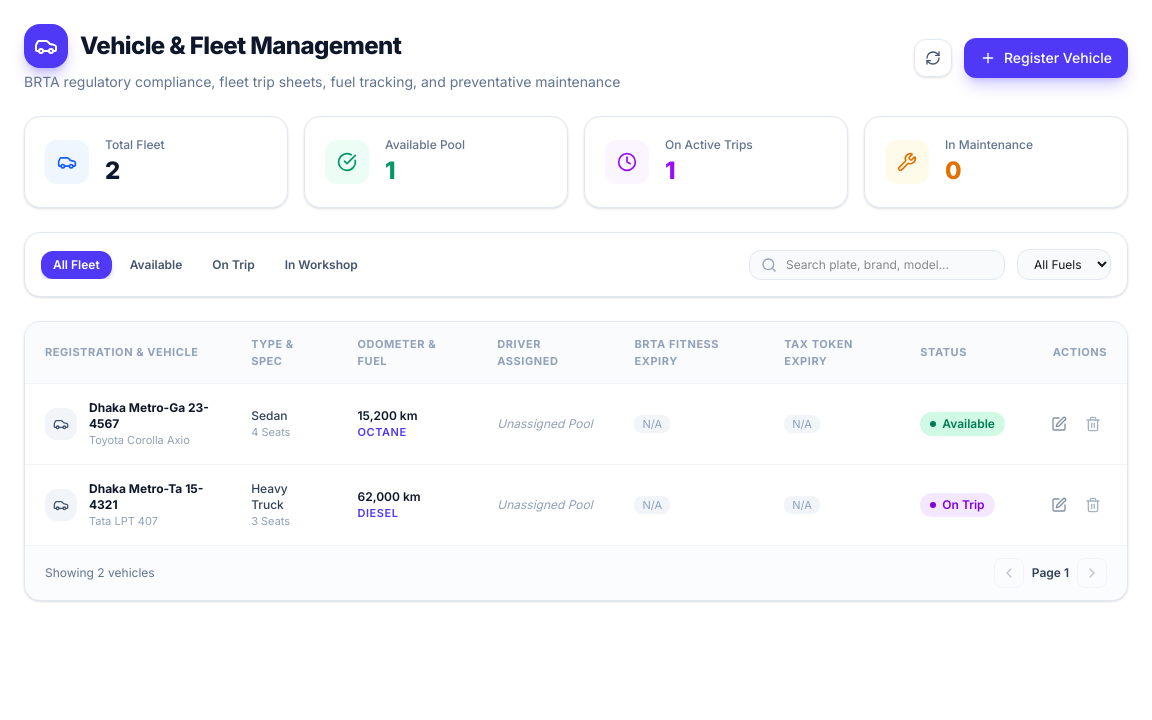
Test: Fleet In-Place Non-Destructive Filtering Audit › renders empty state in-place when search yields no results
The image size is (1152, 720).
Check: the text "Dhaka Metro-Ga 23-4567" is shown, box [89,400,211,432]
In the field with placeholder "Search plate, brand, model...": (877, 264) [749,250,1005,280], type "NonExistentPlate"
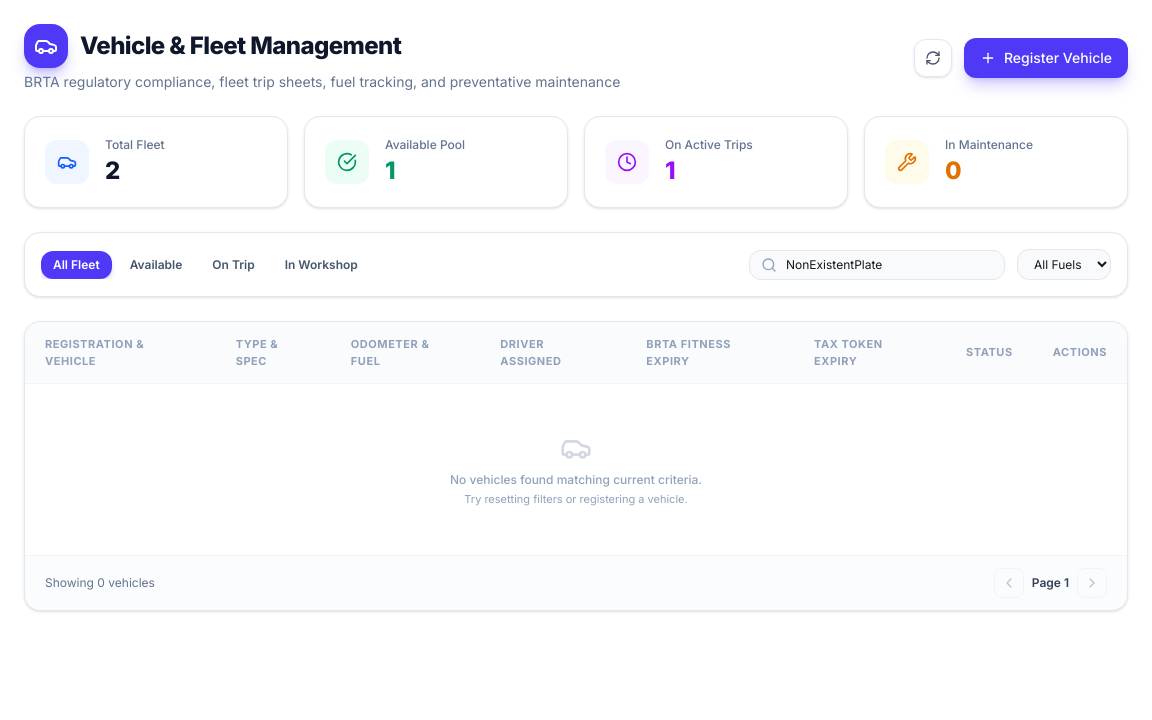
Check: the table is shown, box [25,322,1127,555]
Check: the text "No vehicles found matching current criteria." is shown, box [450,472,702,487]
